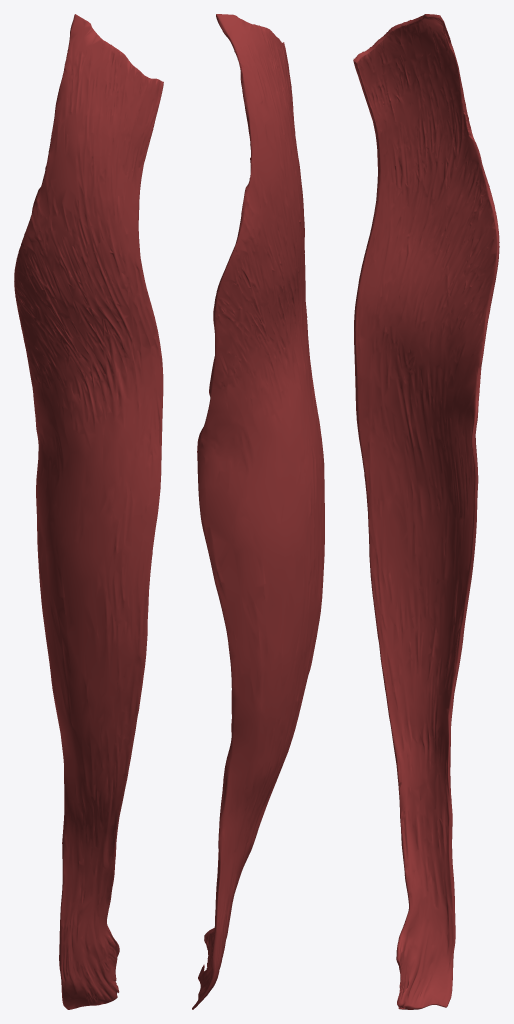
The model's file is iliotibial-tract-r.glb.
The picture shows the model from 3 angles, left to right: view 1: azimuth 90°, elevation 25°; view 2: azimuth 150°, elevation 25°; view 3: azimuth 270°, elevation 25°; orthographic projection. The views are drawn at different scales.
Visible parts, largest first — view 1: Iliotibial tract.r; view 2: Iliotibial tract.r; view 3: Iliotibial tract.r.
Boxes of the visible parts, left/top/right/bottom form: Iliotibial tract.r: left=14, top=14, right=163, bottom=1009; Iliotibial tract.r: left=192, top=14, right=324, bottom=1009; Iliotibial tract.r: left=353, top=14, right=499, bottom=1009.
Size of the model in its own units: 0.0714 by 0.6053 by 0.0816.
